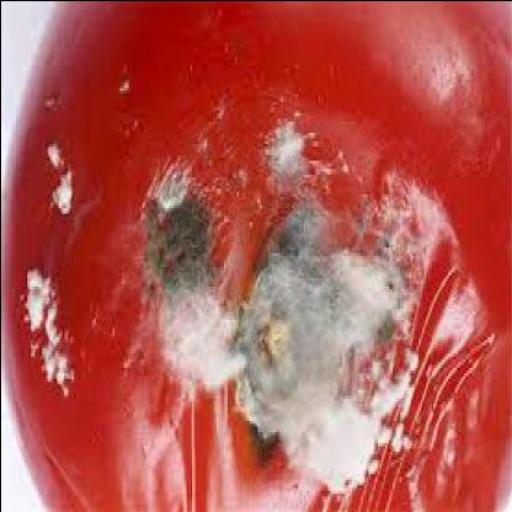biodegradable: (1, 1, 512, 511)
